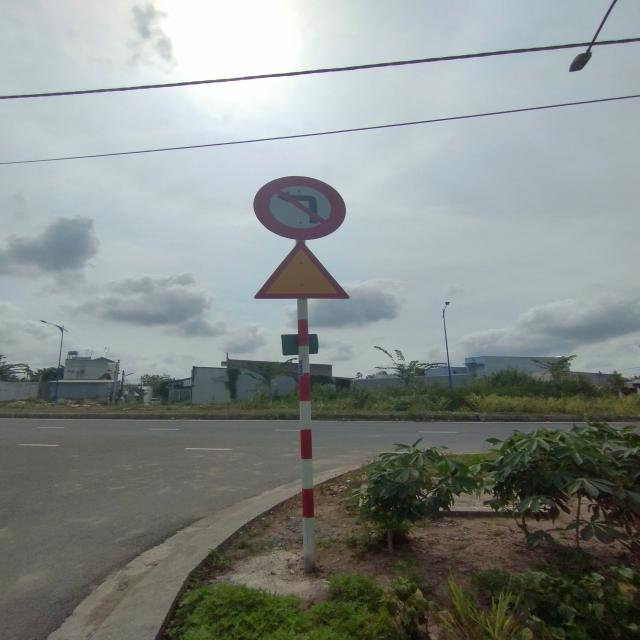Cam_Re_Trai: (253, 175, 347, 241)
Gioi_Han_Toc_Do_25: (252, 240, 350, 298)
